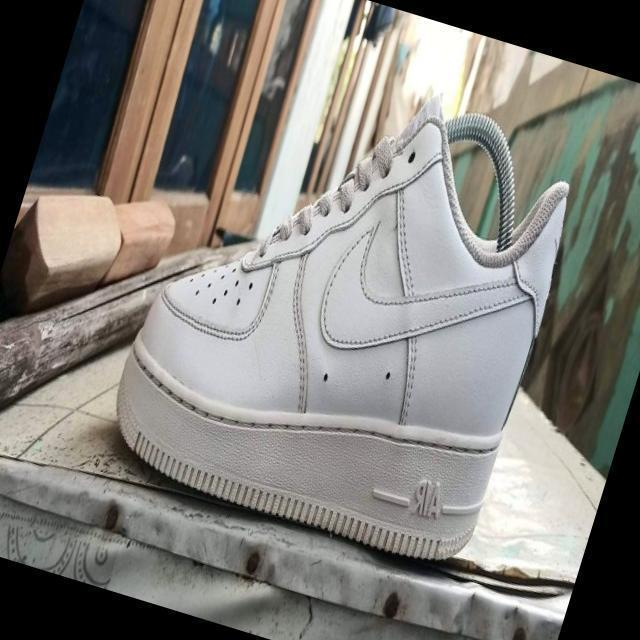nike original air force: (82, 32, 600, 596)
